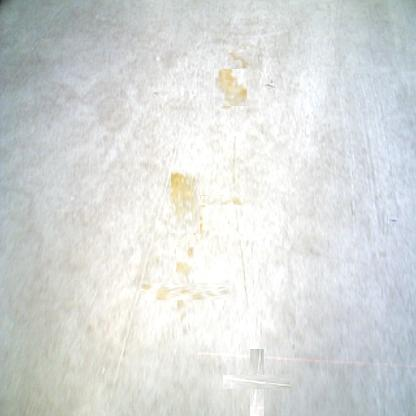liquid: (159, 265, 211, 317), (172, 172, 202, 233), (237, 362, 277, 403), (214, 70, 247, 107), (229, 47, 251, 69), (201, 195, 242, 205)
mark: (267, 80, 276, 90), (390, 217, 398, 226), (153, 89, 160, 96)
